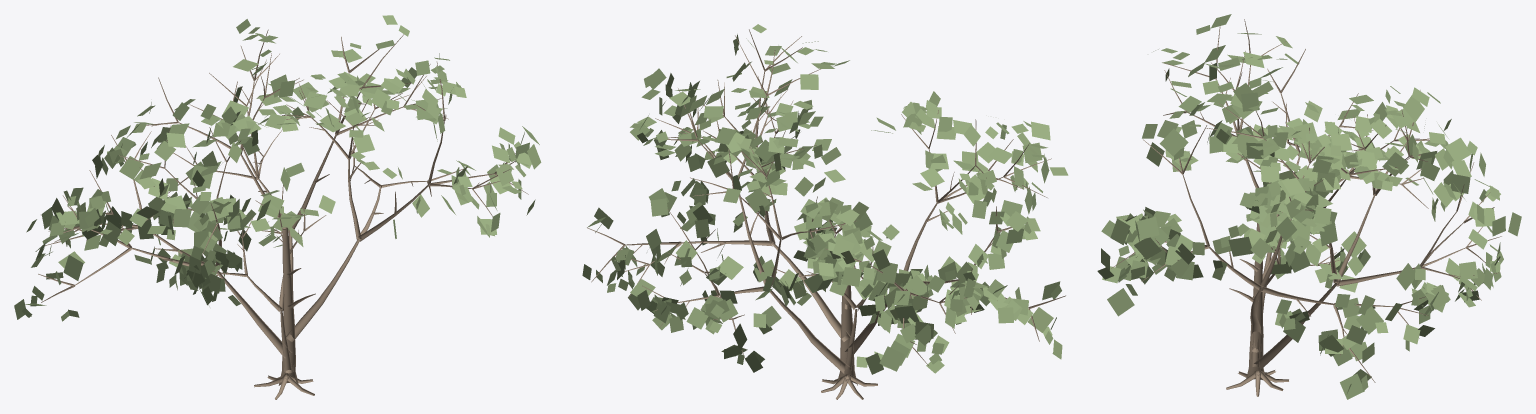
Rendered from tree-c.glb.
The picture shows the model from 3 angles, left to right: view 1: azimuth 30°, elevation 25°; view 2: azimuth 150°, elevation 25°; view 3: azimuth 270°, elevation 25°; orthographic projection. The views are drawn at different scales.
Parts seen in each view (by area): view 1: leaf, wood; view 2: leaf, wood; view 3: leaf, wood.
Part boxes in pixels (x1=…): leaf: x1=14, y1=15, x2=541, y2=321; wood: x1=38, y1=29, x2=528, y2=399; leaf: x1=582, y1=24, x2=1068, y2=374; wood: x1=587, y1=29, x2=1065, y2=399; leaf: x1=1097, y1=14, x2=1521, y2=399; wood: x1=1111, y1=19, x2=1501, y2=396.
Size of the model in its own units: 19.36 by 13.71 by 14.87.
